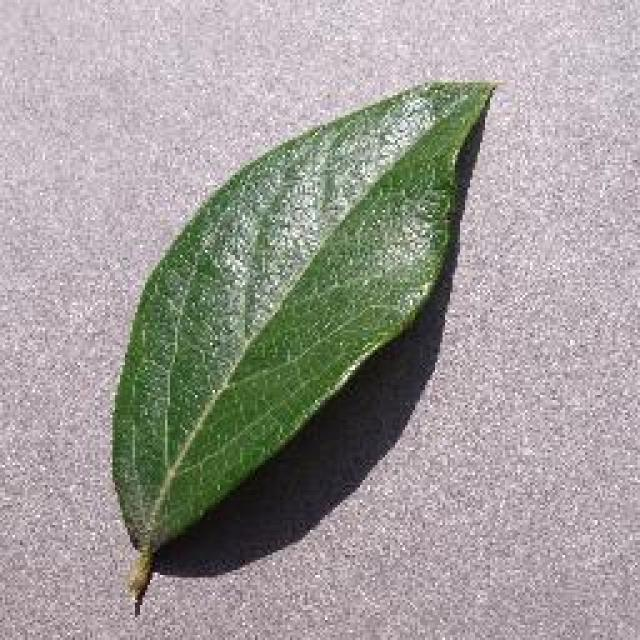Blu_healthy: (119, 124, 414, 498)
